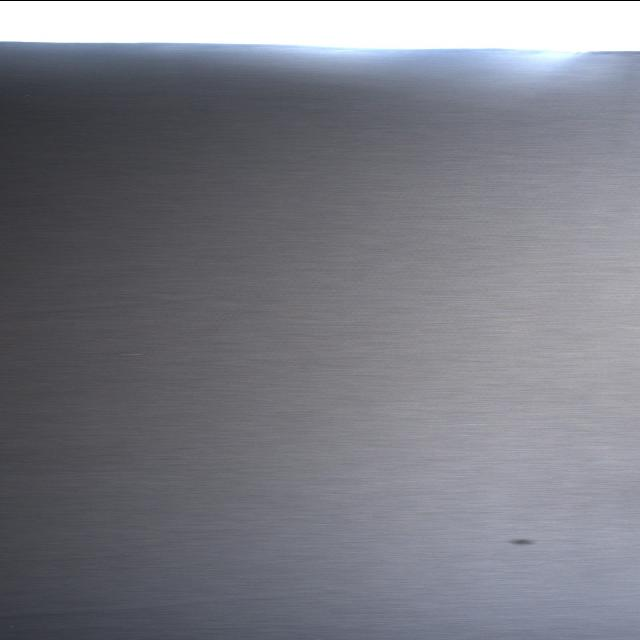crease: (2, 585, 336, 617), (5, 296, 183, 315)
whiteDefect: (118, 352, 147, 355)
